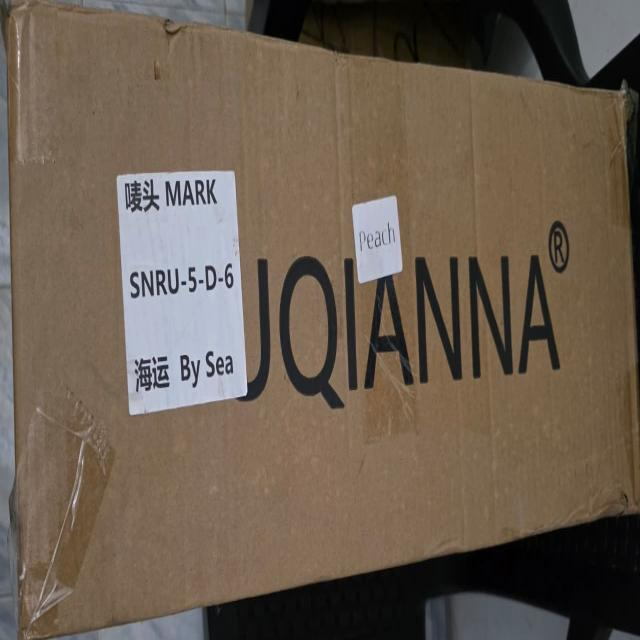carton_box: (0, 0, 640, 634)
export_mark_label: (113, 153, 255, 413)
package_damage: (156, 4, 190, 61), (612, 61, 636, 139)
